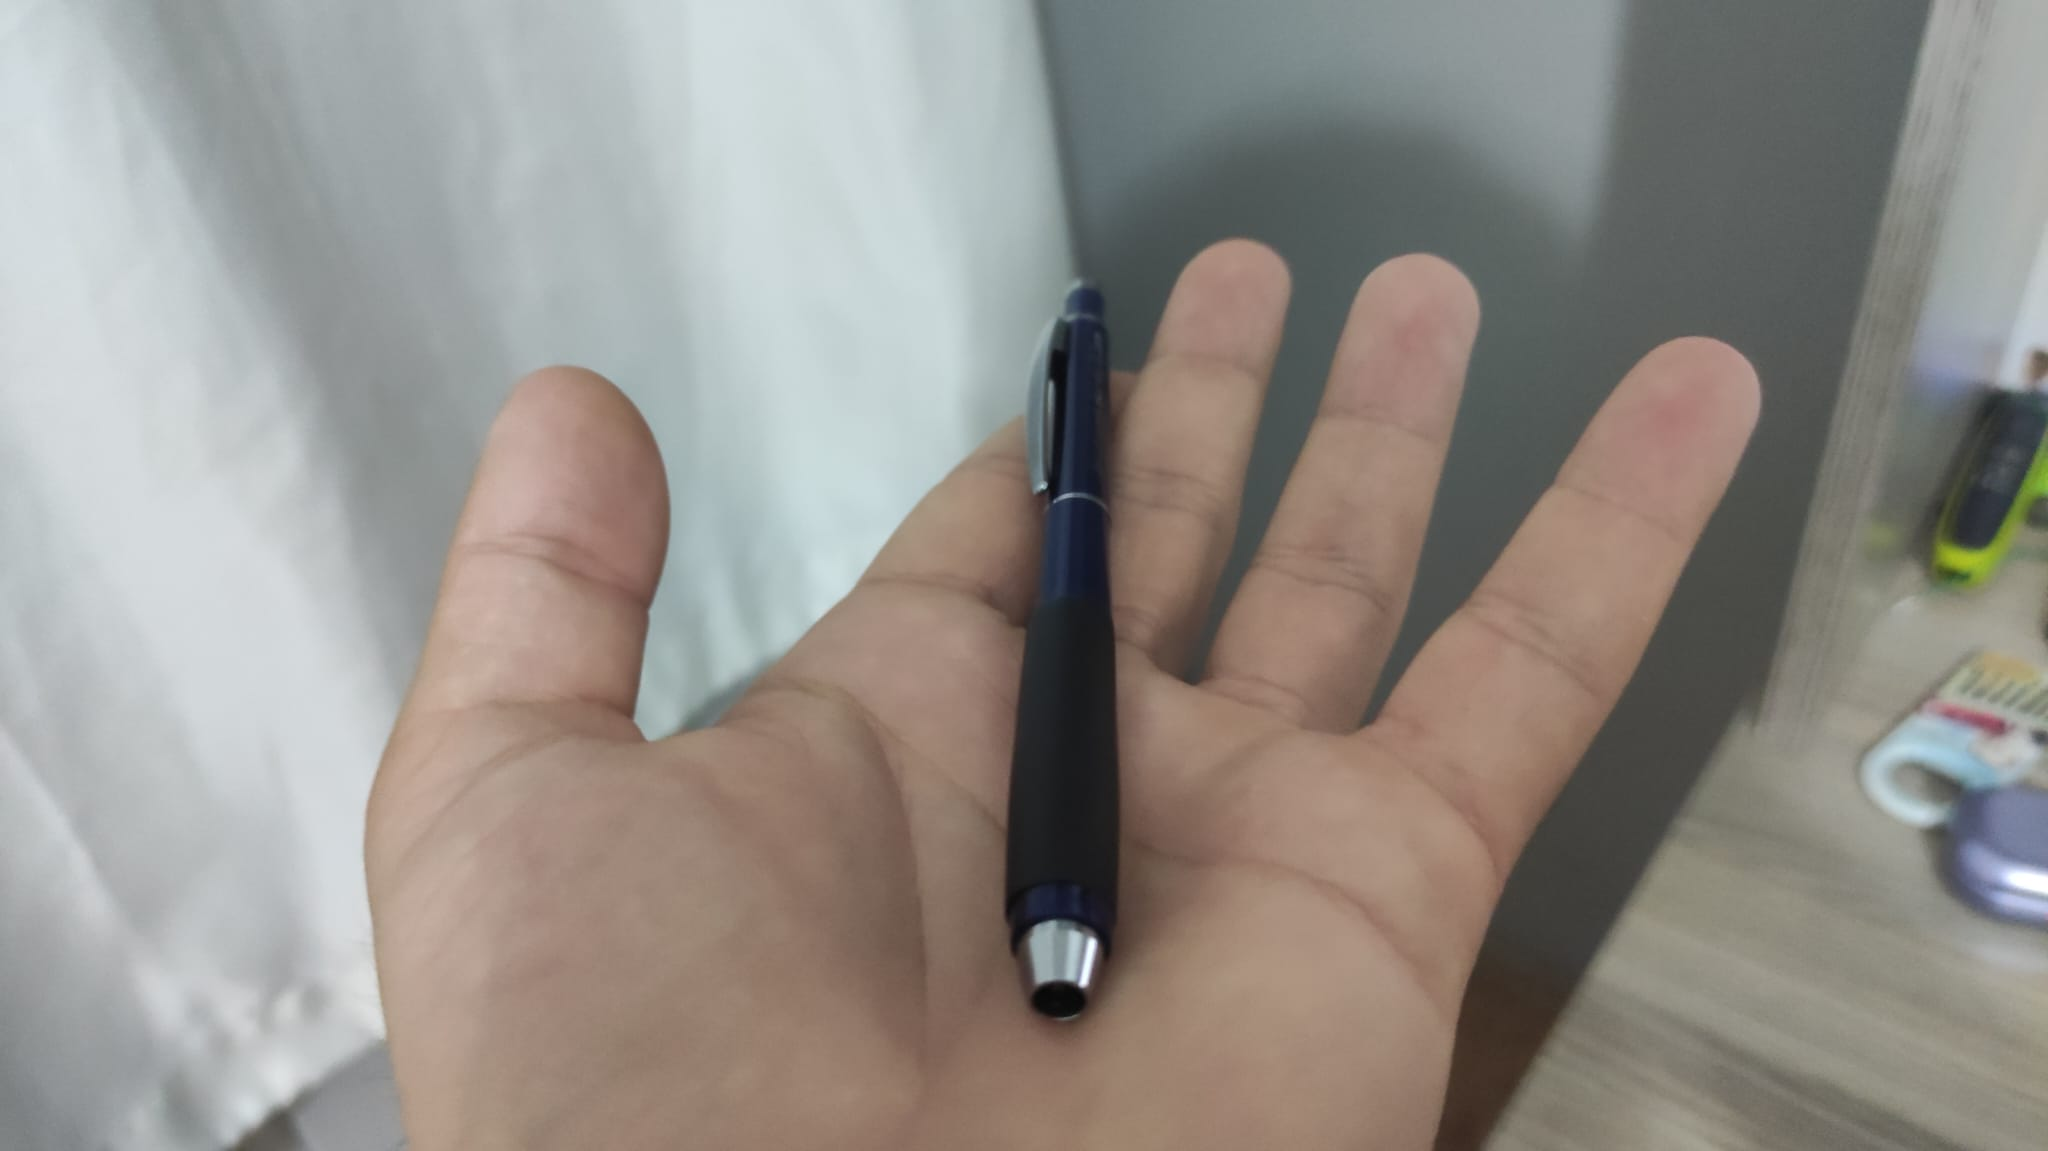kalem: (1007, 279, 1120, 1019)
